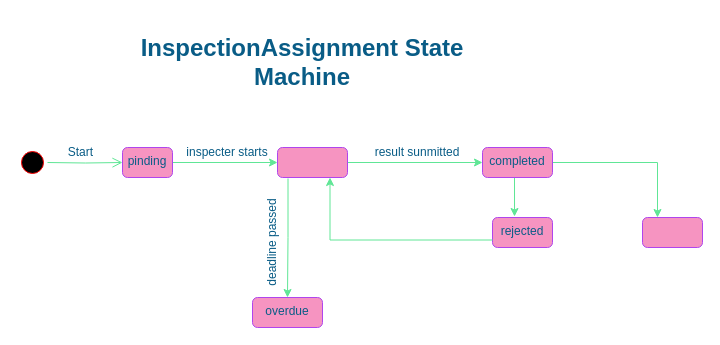
The diagram is 720 pixels wide and 345 high, and some of its shapes have lost their labels. The shapes that lost their labels are listed below. From the top down, each one's box as (x1, y1, x2, y2) in pixels, then its label:
(276, 146, 348, 178): in progress
(642, 216, 702, 248): approved
